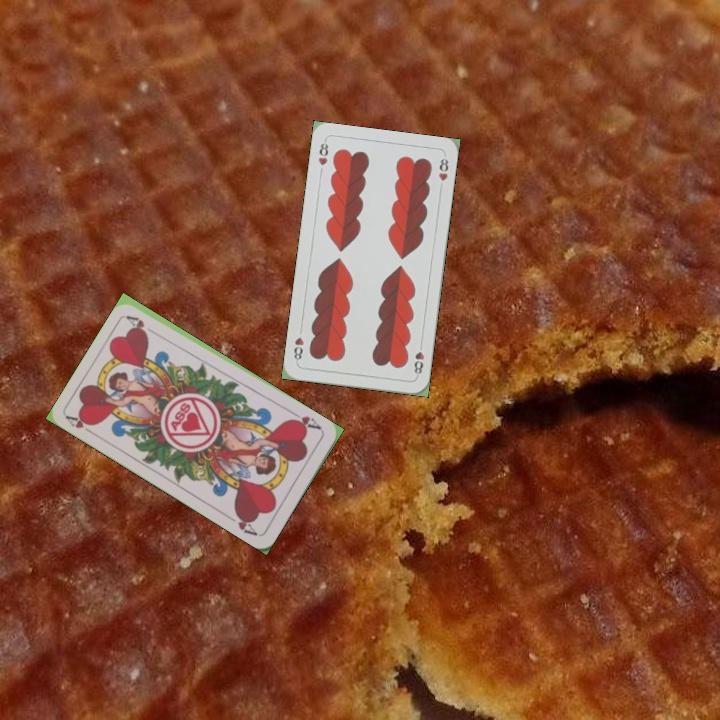H8: (410, 339, 427, 379), (314, 137, 331, 177)
HA: (285, 408, 325, 434), (63, 411, 100, 439)
